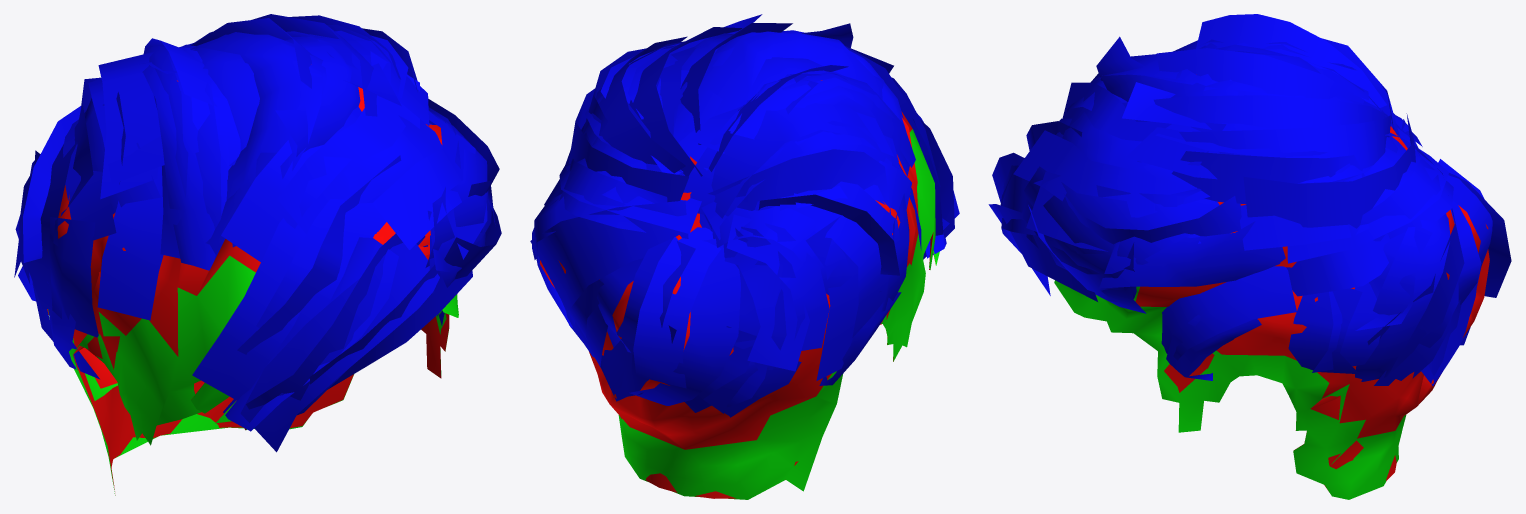
Rendered from hair_004.obj.
The picture shows the model from 3 angles, left to right: view 1: azimuth 30°, elevation 25°; view 2: azimuth 150°, elevation 25°; view 3: azimuth 270°, elevation 25°; orthographic projection. The views are drawn at different scales.
Bounding box in the file's own units: 18.51 × 21.53 × 23.77.
